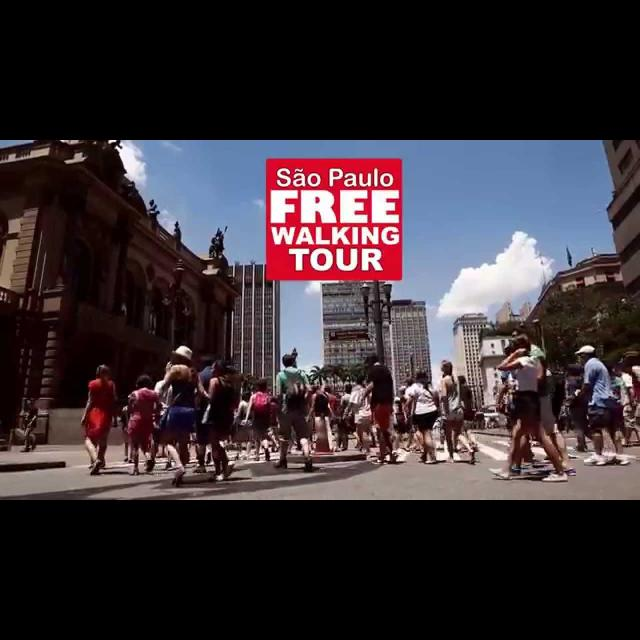head: (512, 336, 532, 358), (512, 327, 532, 349), (172, 348, 190, 366), (211, 360, 227, 378), (580, 347, 594, 365), (366, 356, 382, 370), (255, 379, 269, 393), (441, 360, 453, 374), (611, 365, 625, 377), (96, 366, 108, 378), (140, 376, 152, 388), (283, 355, 295, 367), (416, 373, 428, 385), (456, 376, 466, 386), (27, 399, 33, 407)
person: (487, 334, 569, 484), (498, 325, 578, 477), (572, 342, 630, 466), (158, 344, 206, 488), (198, 359, 242, 483), (272, 353, 316, 473), (80, 362, 120, 478), (360, 354, 398, 466), (439, 359, 477, 465), (126, 374, 162, 478), (404, 371, 442, 465), (451, 373, 483, 453), (244, 379, 274, 463), (20, 398, 40, 454)
